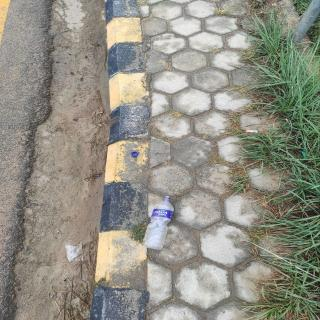Plastic-bottle: (140, 193, 177, 253)
